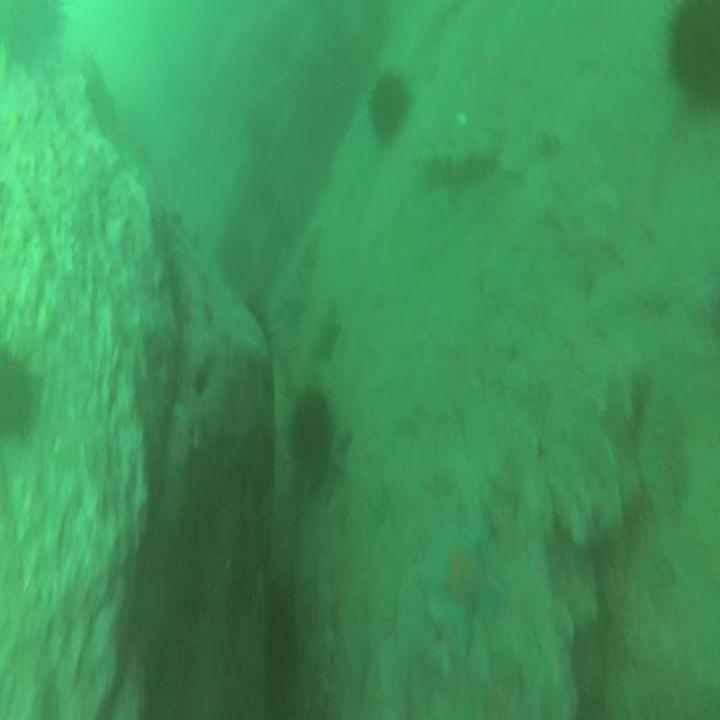echinus: (674, 4, 720, 103), (365, 71, 412, 142), (293, 393, 332, 475)
holothurian: (424, 148, 500, 192)
starfish: (416, 519, 503, 651)
